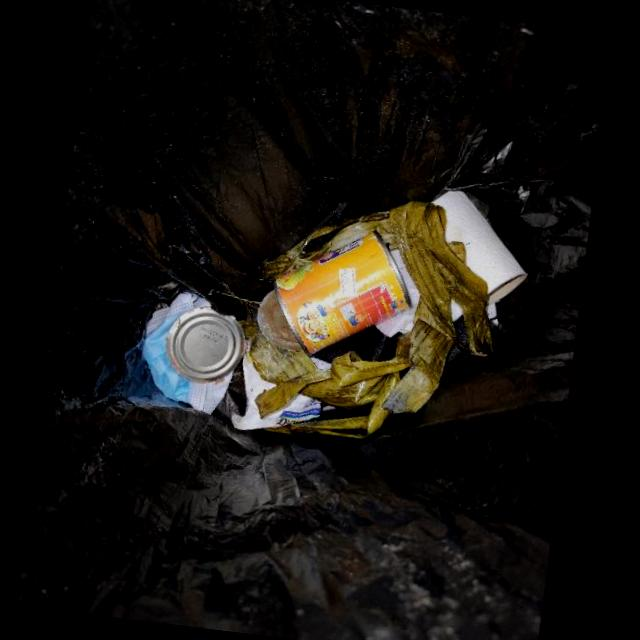khau_trang: (142, 286, 244, 413)
nhom: (257, 230, 412, 353), (166, 306, 245, 384)
vo_trai_cay: (262, 200, 496, 413)
